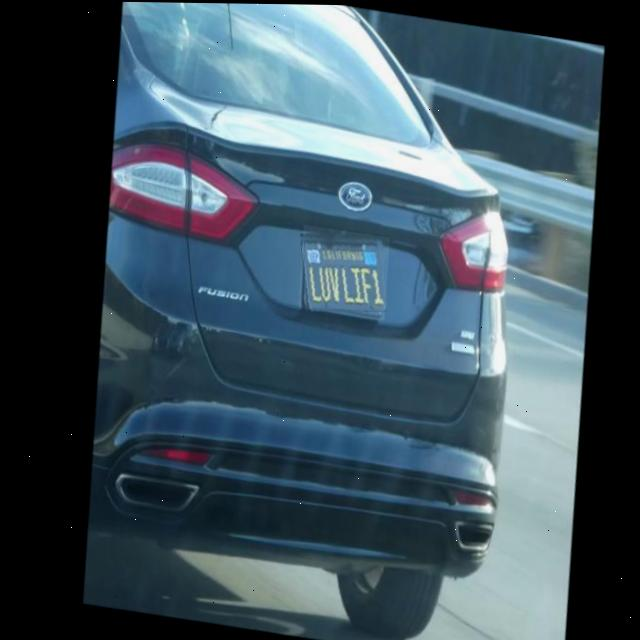LicensePlate: (289, 224, 391, 320)
